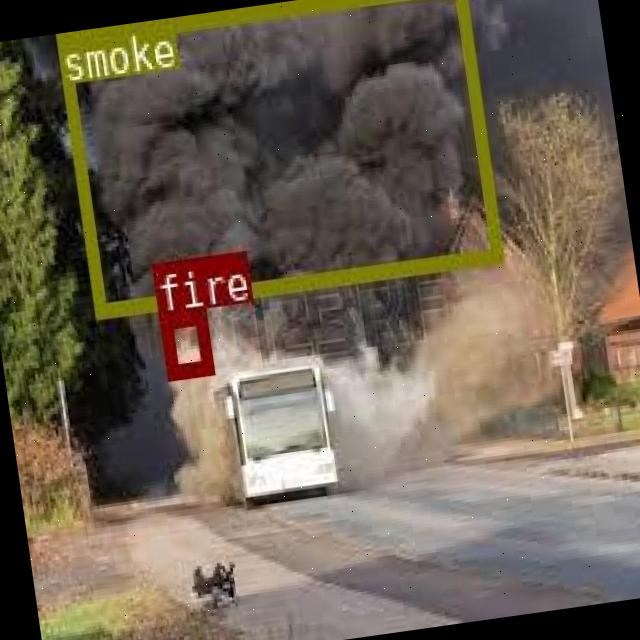fire: (156, 306, 212, 376)
smoke: (55, 0, 501, 314)
